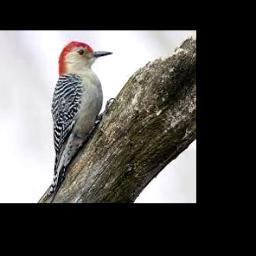Woodpecker: (40, 41, 112, 203)
